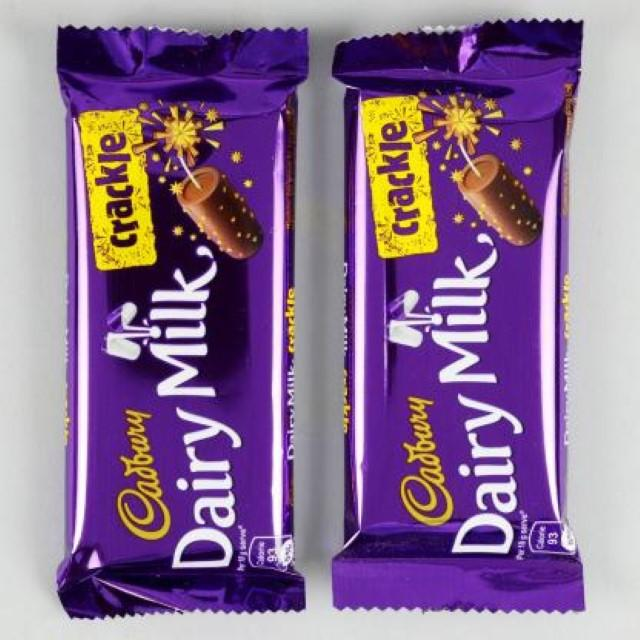cadbury_chocolate: (55, 57, 308, 615), (358, 52, 585, 588)
